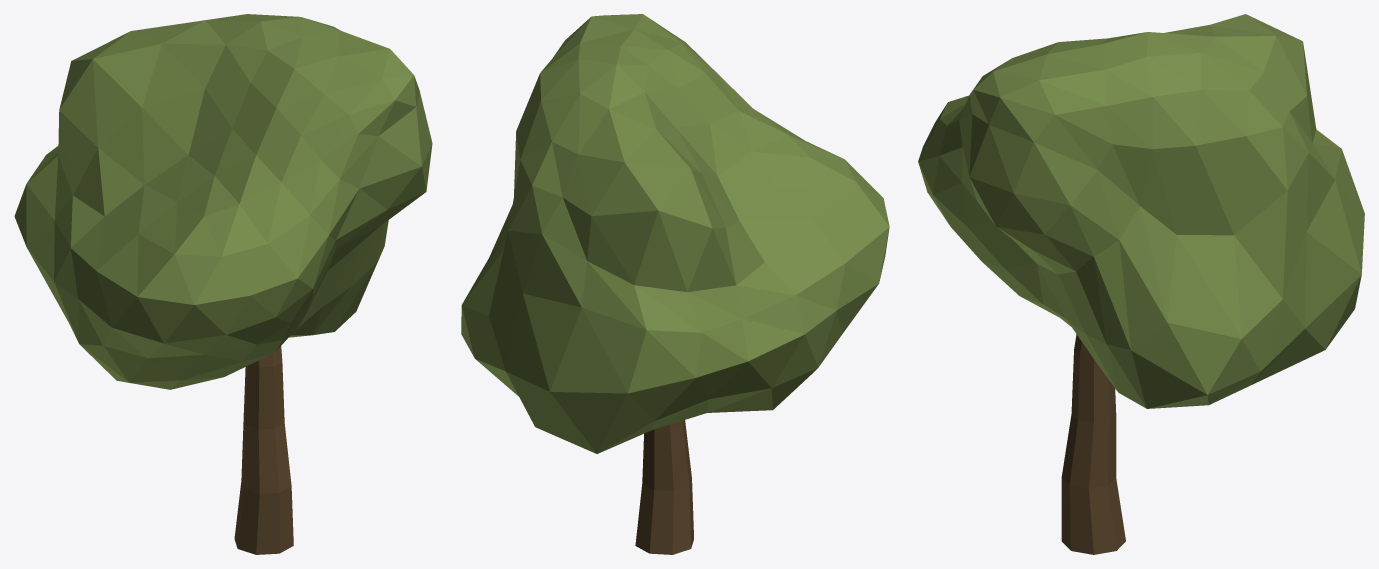
The model's file is tree5.fbx.
3 renders of one model, left to right at view 1: azimuth 30°, elevation 25°; view 2: azimuth 150°, elevation 25°; view 3: azimuth 270°, elevation 25°, orthographic. The views are drawn at different scales.
Parts seen in each view (by area): view 1: tree5; view 2: tree5; view 3: tree5.
Part boxes in pixels (x1,y1,x2,y2): tree5: (14,14,432,554); tree5: (461,14,889,554); tree5: (918,14,1364,554).
Size of the model in its own units: 82.05 by 116 by 90.09.
